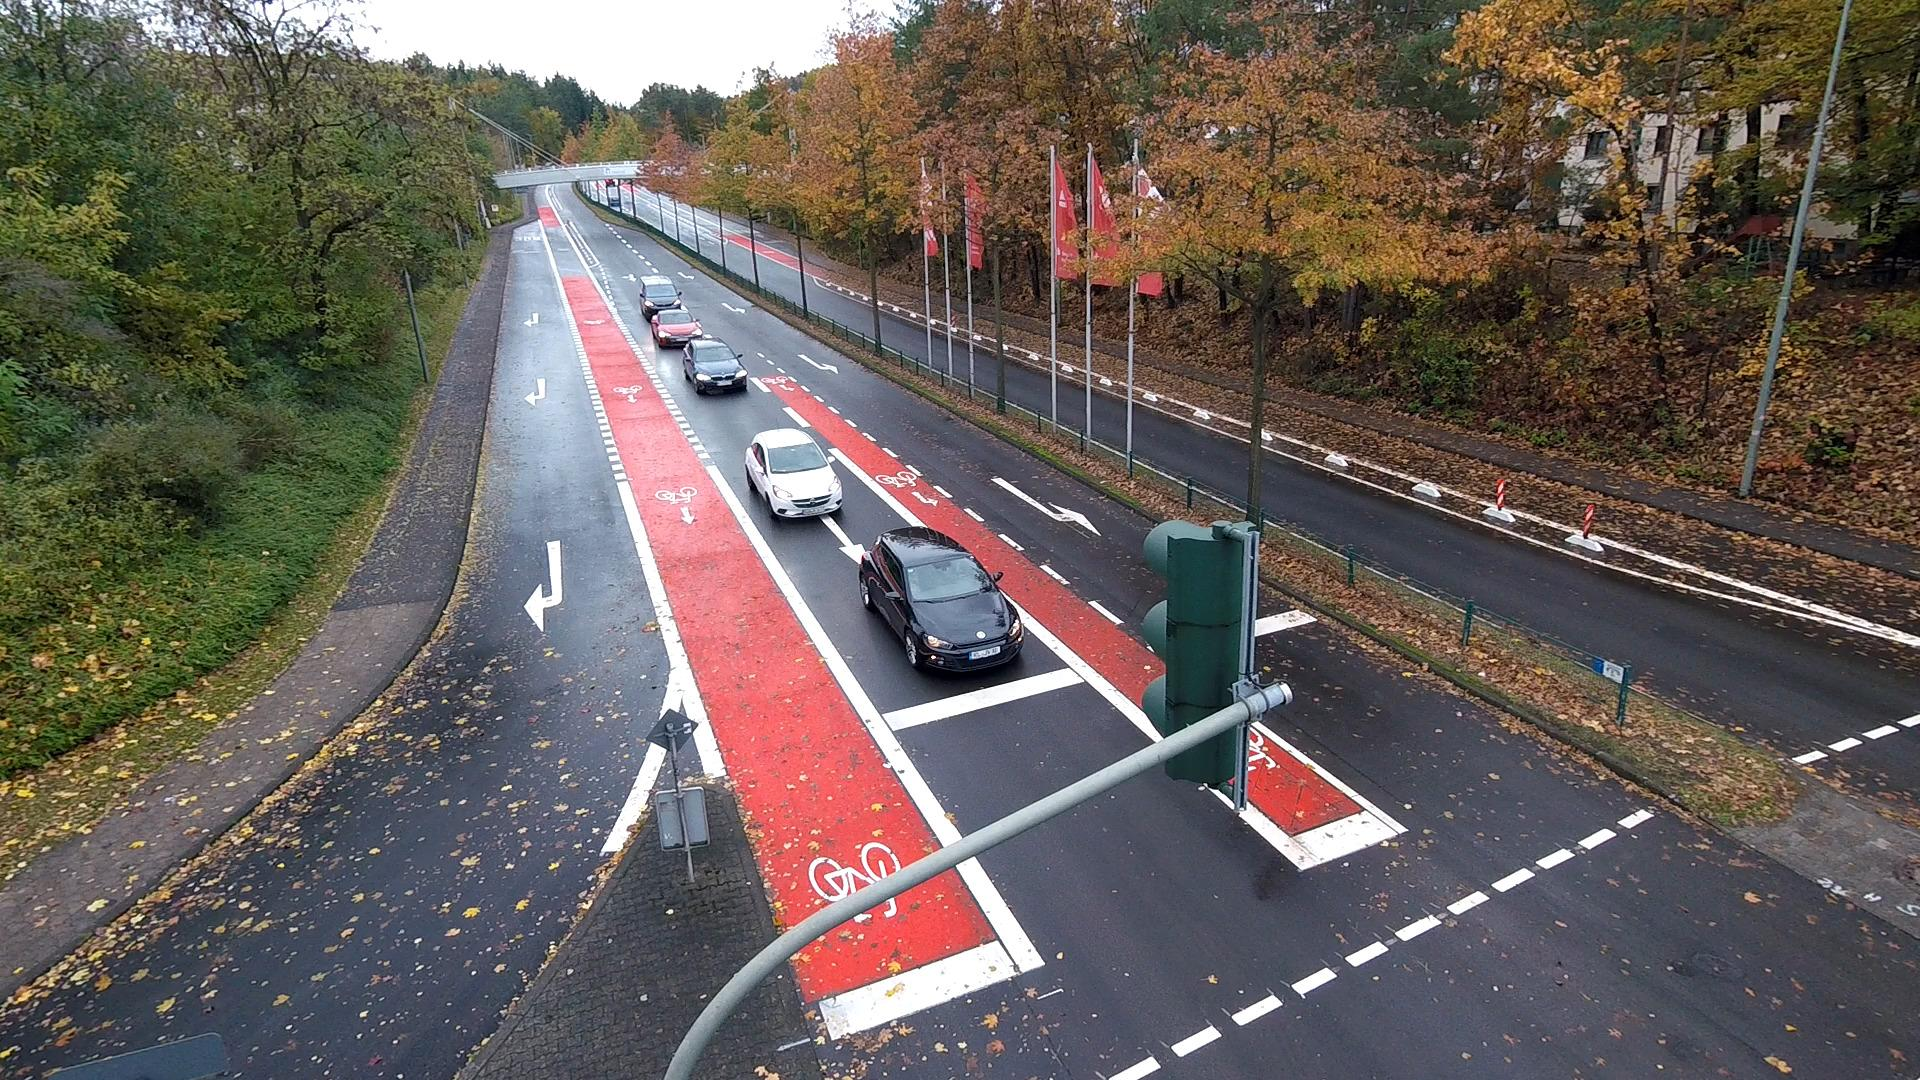bicycle-lane: (536, 184, 960, 932), (1261, 399, 1919, 637), (738, 353, 1046, 588), (788, 853, 1046, 1042), (1000, 565, 1165, 742), (1238, 722, 1408, 872), (1133, 362, 1255, 424), (803, 259, 872, 298), (1001, 323, 1052, 358), (876, 286, 925, 317), (753, 241, 801, 272), (1091, 348, 1128, 383), (1057, 339, 1087, 369), (973, 315, 998, 340), (723, 228, 751, 249), (775, 249, 800, 272), (696, 218, 720, 237), (634, 188, 658, 207), (928, 302, 948, 324), (949, 311, 968, 331), (661, 199, 675, 215), (678, 208, 694, 221), (617, 184, 632, 192)
car: (859, 527, 1024, 676), (744, 427, 844, 518), (682, 336, 748, 392), (650, 309, 702, 349), (639, 275, 683, 319), (607, 187, 620, 206), (604, 178, 616, 186)
car-lane: (0, 218, 680, 1080), (815, 575, 1915, 1080), (549, 185, 1168, 837), (1259, 449, 1920, 826), (637, 272, 860, 523), (1132, 400, 1254, 513), (802, 273, 877, 341), (1124, 529, 1166, 636), (1004, 352, 1052, 421), (880, 307, 929, 366), (1091, 387, 1128, 457), (756, 252, 801, 307), (1056, 375, 1088, 438), (972, 342, 999, 399), (753, 227, 799, 258), (725, 238, 756, 282), (696, 223, 720, 265), (952, 338, 969, 386), (931, 329, 948, 376), (636, 196, 659, 230), (677, 216, 697, 251), (723, 215, 752, 239), (695, 207, 720, 226), (645, 202, 660, 229), (744, 246, 755, 282), (663, 209, 675, 240), (622, 188, 633, 217), (675, 199, 693, 215), (658, 193, 673, 205), (580, 181, 590, 193), (589, 185, 596, 202), (599, 193, 608, 206), (609, 205, 620, 214), (638, 186, 651, 193)
